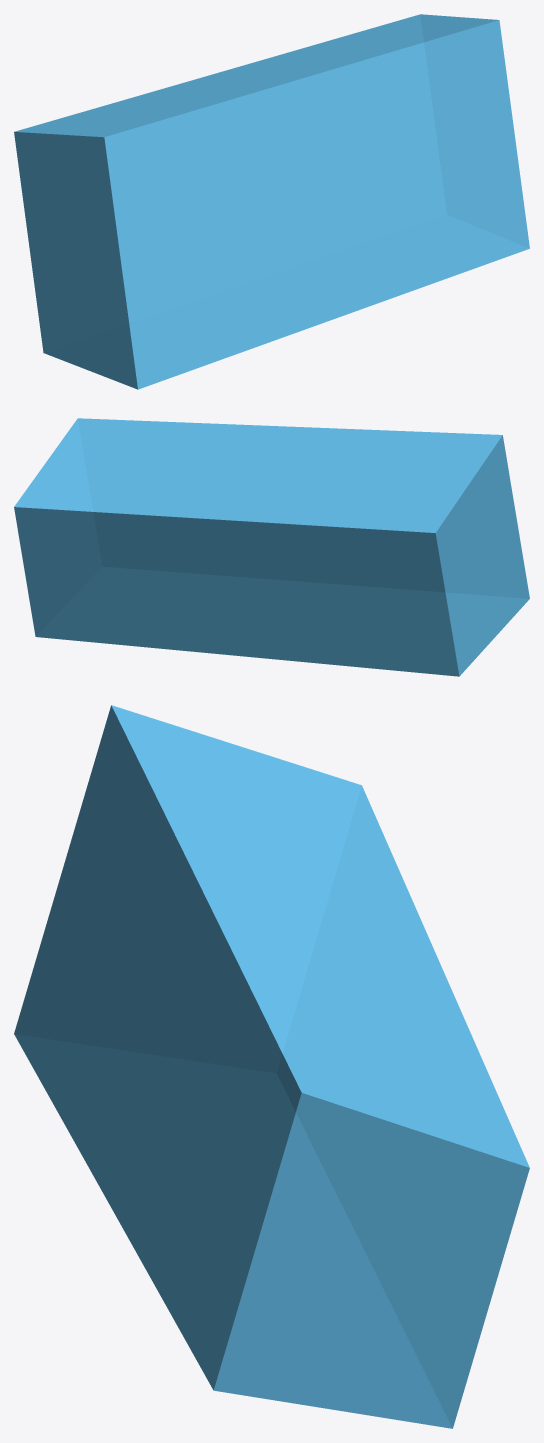
Rendered from Event_420107950_HErechit_53.fbx.
3 renders of one model, top to bottom at view 1: azimuth 30°, elevation 25°; view 2: azimuth 150°, elevation 25°; view 3: azimuth 270°, elevation 25°, orthographic. The views are drawn at different scales.
Visible parts, largest first — view 1: Model; view 2: Model; view 3: Model.
Part boxes in pixels (x1,y1,x2,y2): Model: (14, 14, 529, 389); Model: (14, 418, 529, 676); Model: (14, 705, 529, 1428).
Bounding box in the file's own units: 1.16 × 0.6588 × 0.7721.
